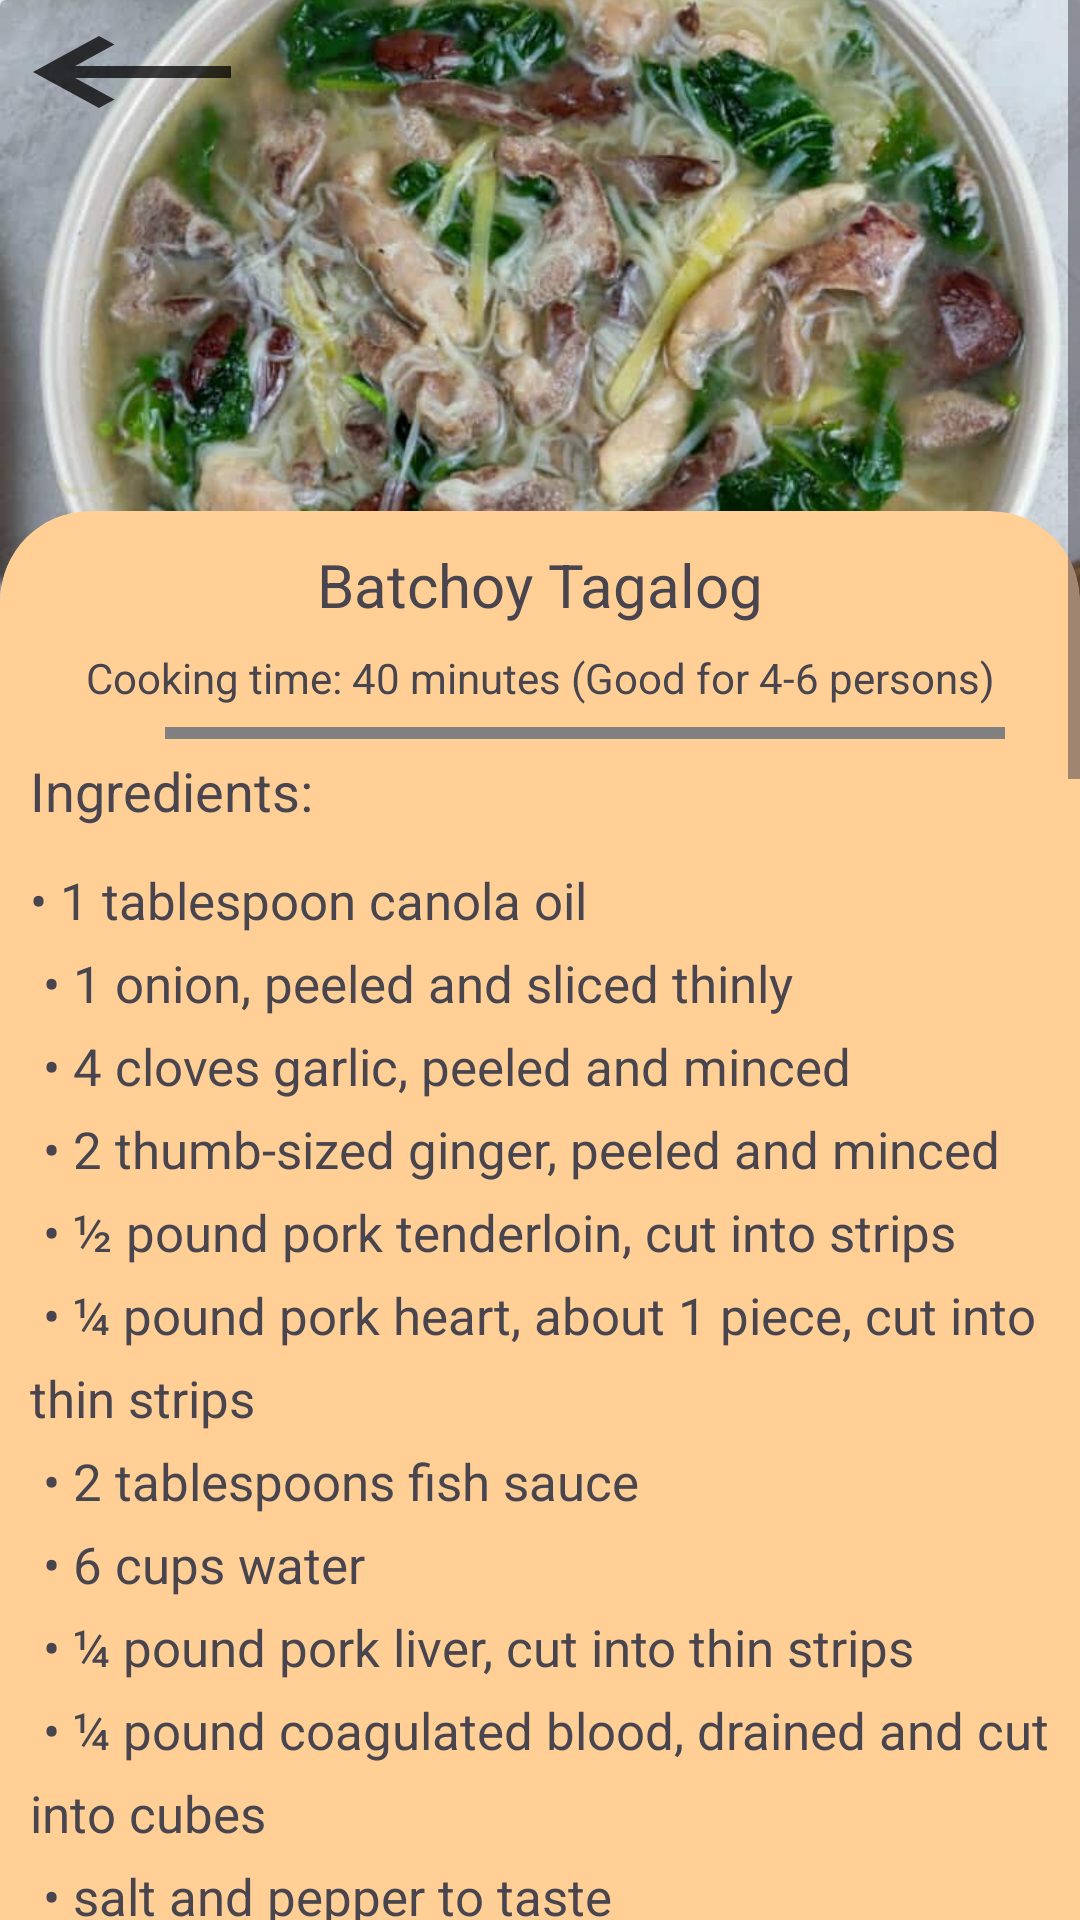

Where to tap for icons on this 1080px×1920px app screen, as (x=x, y=y):
keyboard backspace: (x=132, y=72)
